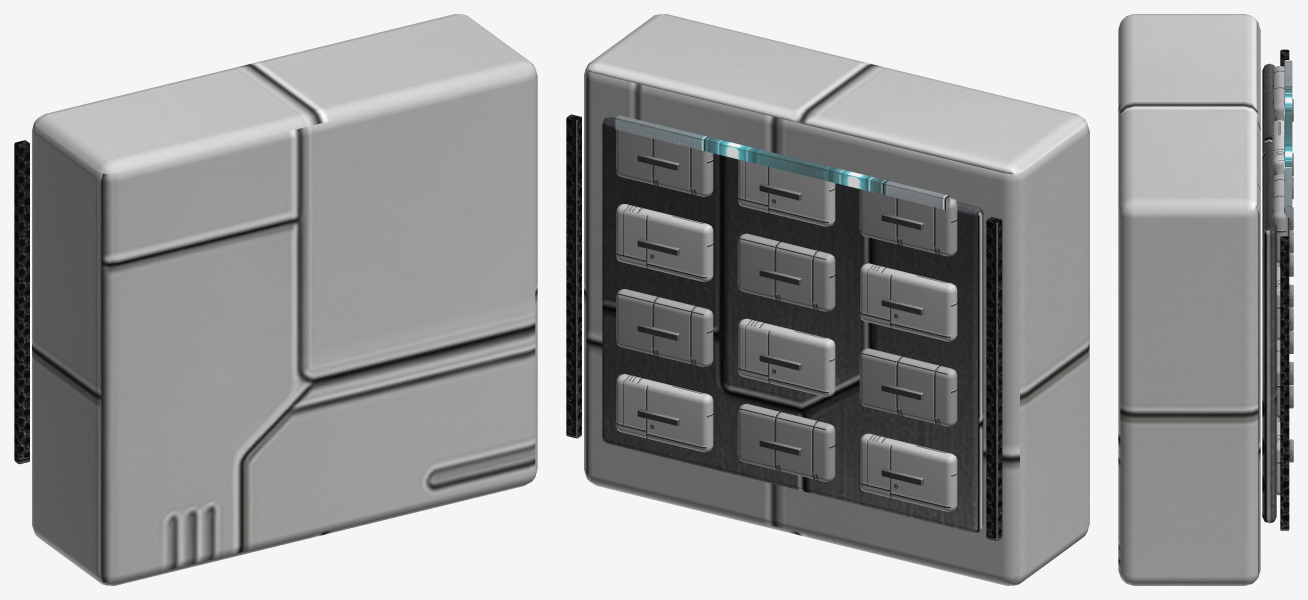
File: hp_l4_cineclinic_record_wall_cabinet.glb
3 views of the same model, side by side, from view 1: azimuth 30°, elevation 25°; view 2: azimuth 150°, elevation 25°; view 3: azimuth 270°, elevation 25° (orthographic). The views are drawn at different scales.
Parts seen in each view (by area): view 1: drawer_body, left_side_shadow_gap; view 2: drawer_body, dark_recess, drawer_1_0, drawer_2_0, drawer_2_1, drawer_0_1, drawer_0_0, drawer_1_1, drawer_0_2, drawer_2_2, drawer_1_2, left_side_shadow_gap (+5 smaller); view 3: drawer_body, dark_recess, right_side_shadow_gap, cyan_archive_rule, drawer_3_2, drawer_3_1, drawer_3_0, drawer_0_2, drawer_1_2, drawer_2_2.
Boxes of the visible parts, bbox=[...] form: drawer_body: bbox=[32, 14, 537, 585]; left_side_shadow_gap: bbox=[14, 140, 29, 464]; drawer_body: bbox=[584, 14, 1089, 585]; dark_recess: bbox=[602, 117, 983, 532]; drawer_1_0: bbox=[859, 348, 957, 426]; drawer_2_0: bbox=[859, 263, 957, 341]; drawer_2_1: bbox=[737, 233, 835, 311]; drawer_0_1: bbox=[737, 403, 835, 481]; drawer_0_0: bbox=[859, 433, 957, 511]; drawer_1_1: bbox=[737, 318, 835, 396]; drawer_0_2: bbox=[616, 374, 713, 452]; drawer_2_2: bbox=[616, 204, 713, 281]; drawer_1_2: bbox=[616, 289, 713, 366]; left_side_shadow_gap: bbox=[986, 217, 1002, 540]; drawer_body: bbox=[1118, 14, 1260, 585]; dark_recess: bbox=[1262, 63, 1276, 523]; right_side_shadow_gap: bbox=[1280, 236, 1289, 530]; cyan_archive_rule: bbox=[1284, 60, 1292, 217]; drawer_3_2: bbox=[1272, 174, 1288, 262]; drawer_3_1: bbox=[1272, 120, 1284, 174]; drawer_3_0: bbox=[1272, 66, 1284, 120]; drawer_0_2: bbox=[1276, 417, 1280, 495]; drawer_1_2: bbox=[1276, 340, 1280, 417]; drawer_2_2: bbox=[1276, 262, 1280, 340].
Size of the model in its own units: 1.3 by 1.2 by 0.493.
5 materials, 5 textured.
